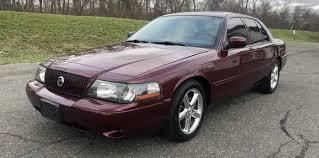Mercury: (54, 72, 67, 90)
